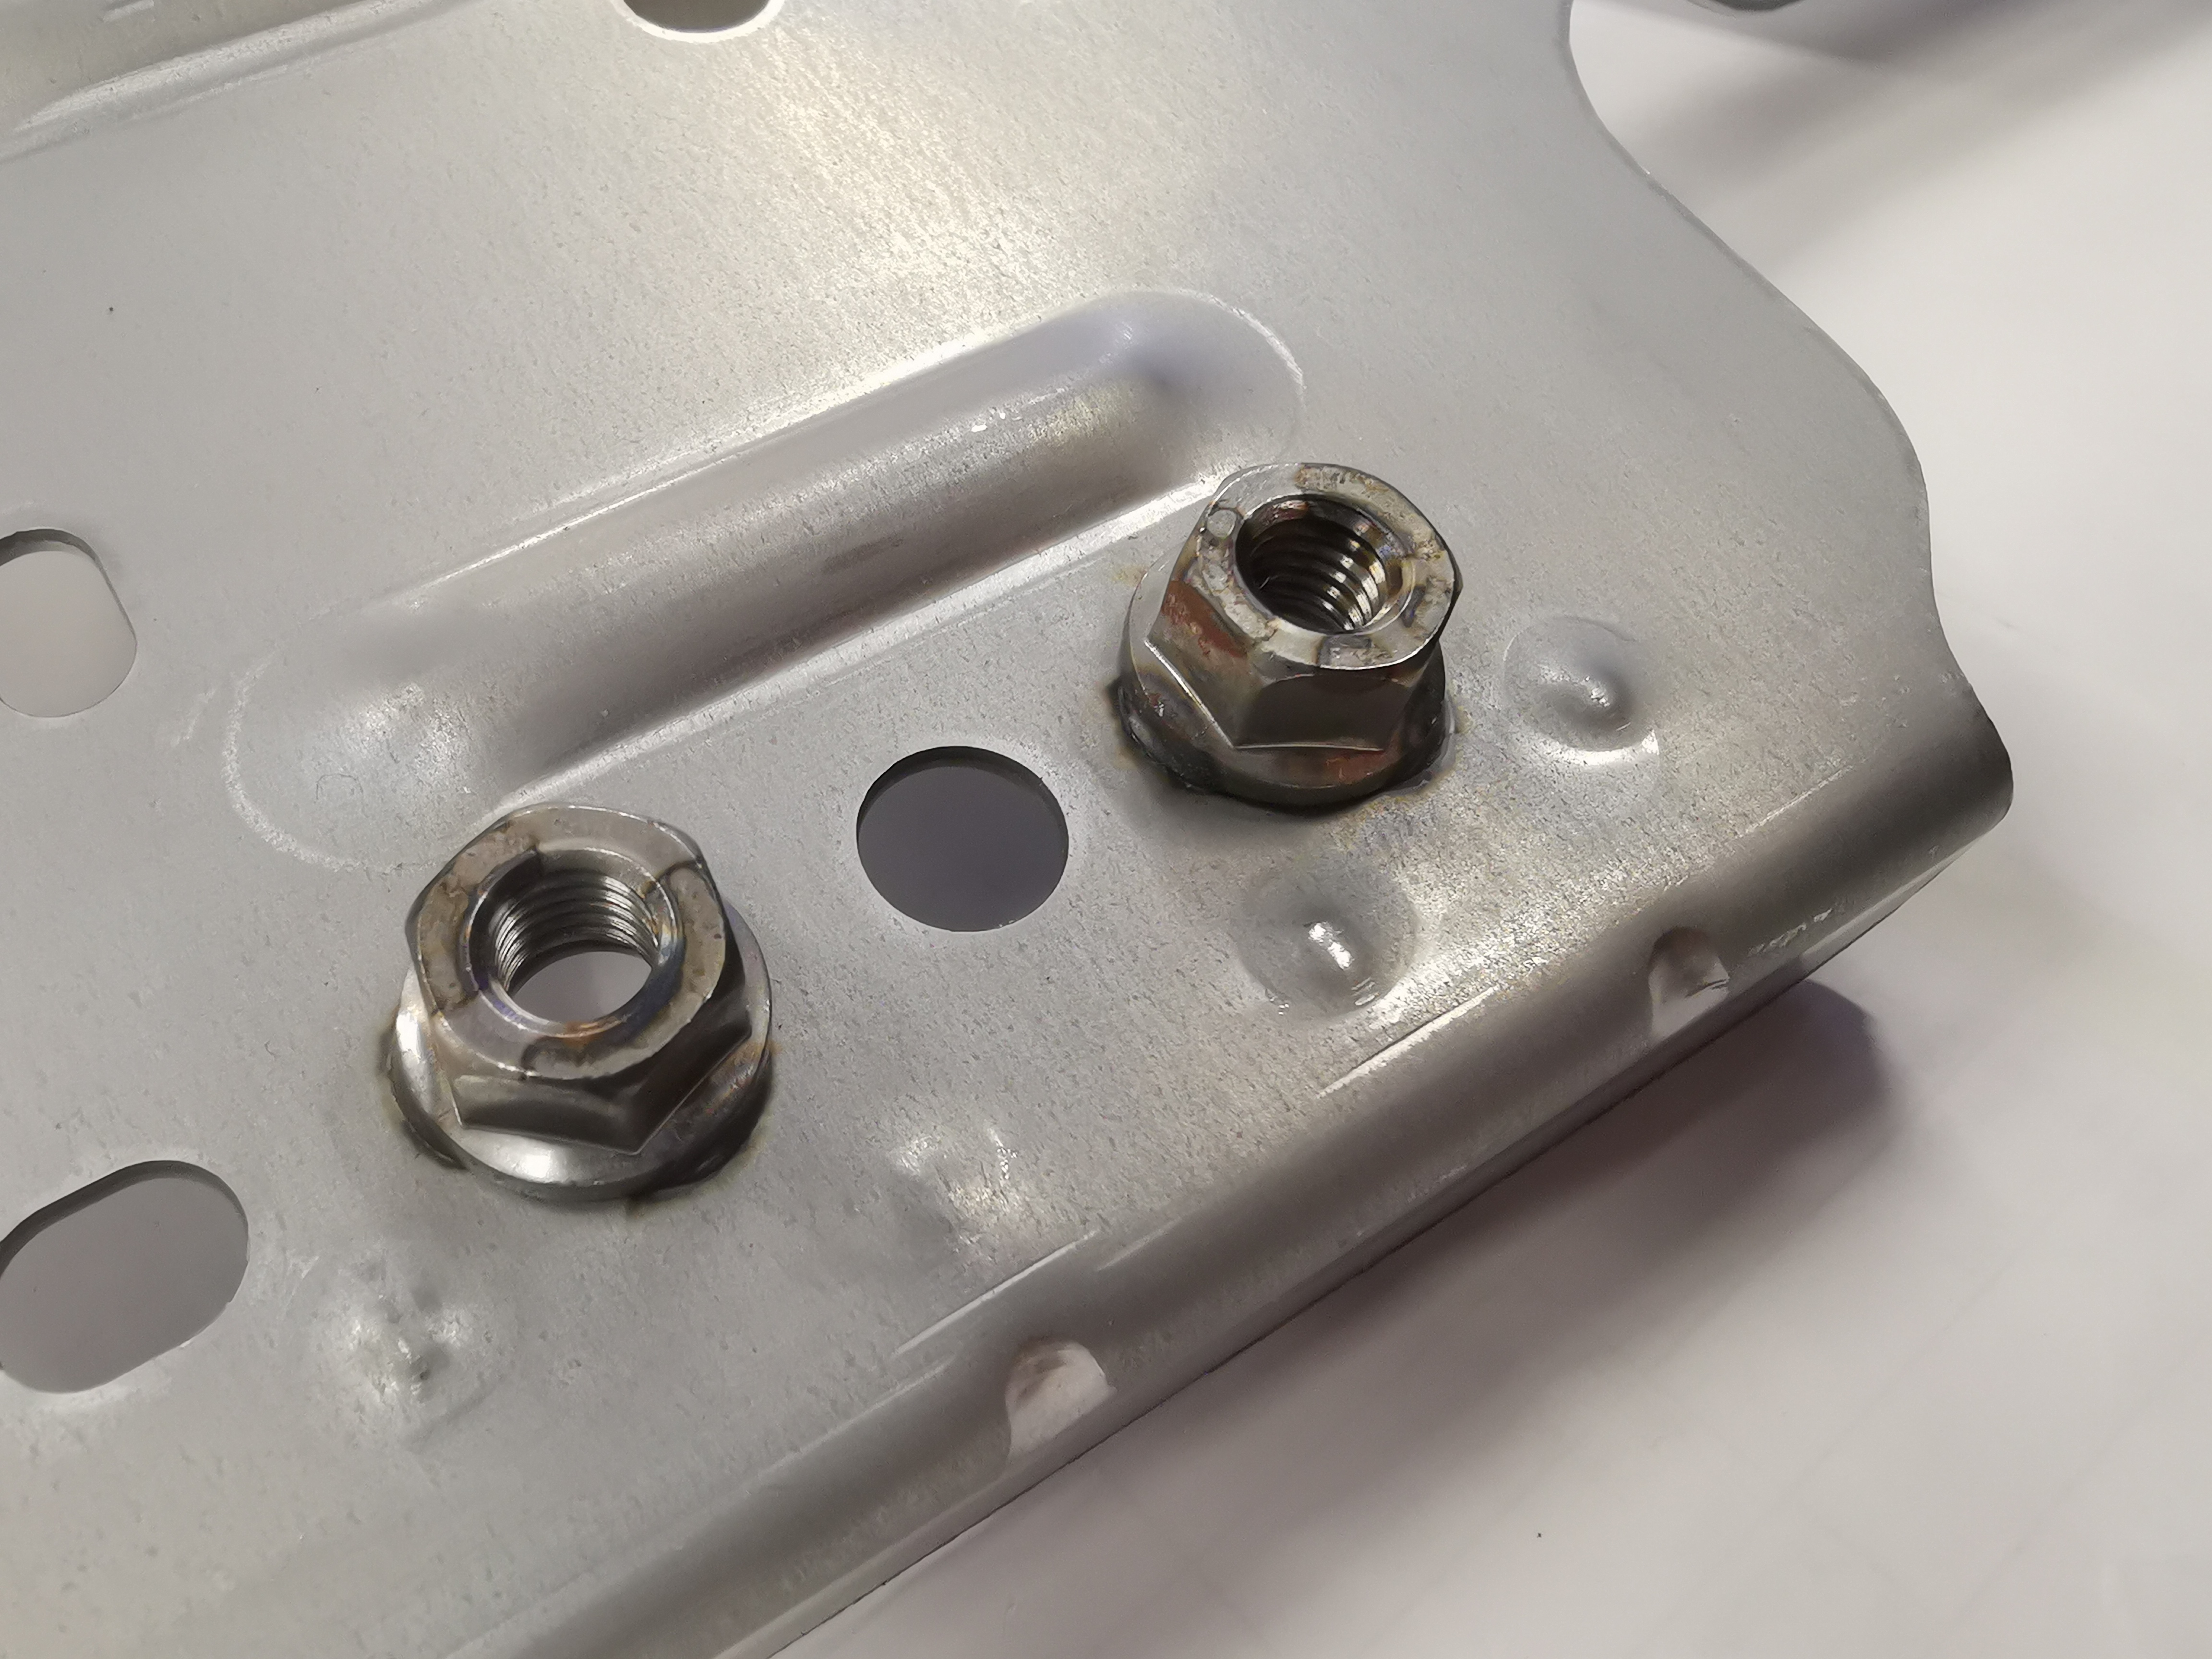dog: (373, 793, 787, 1213), (1103, 455, 1468, 817)
